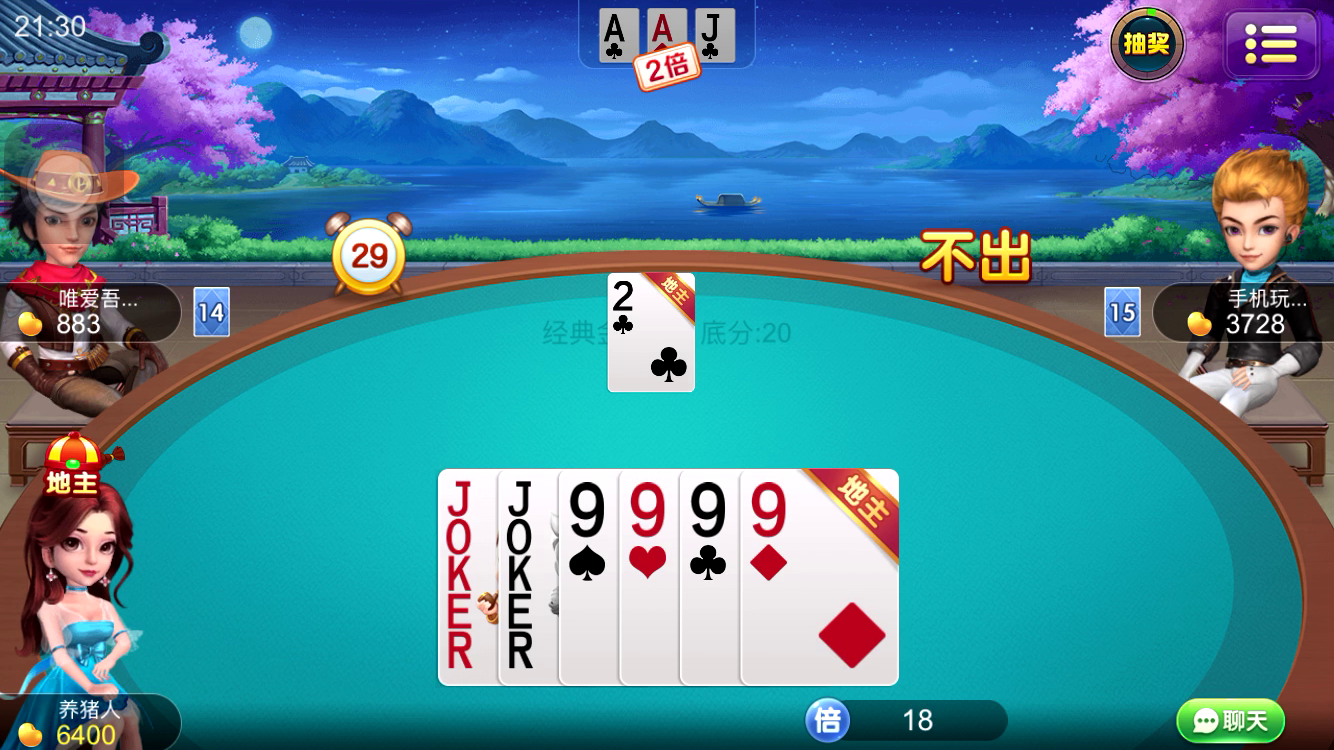A: (650, 10, 679, 49), (599, 10, 632, 44)
J: (695, 8, 725, 42)
JOKER: (435, 472, 487, 601)
joker: (500, 476, 542, 601)
nine: (743, 475, 803, 545), (560, 475, 615, 545), (682, 476, 736, 544), (621, 475, 675, 542)
two: (606, 276, 645, 314)
